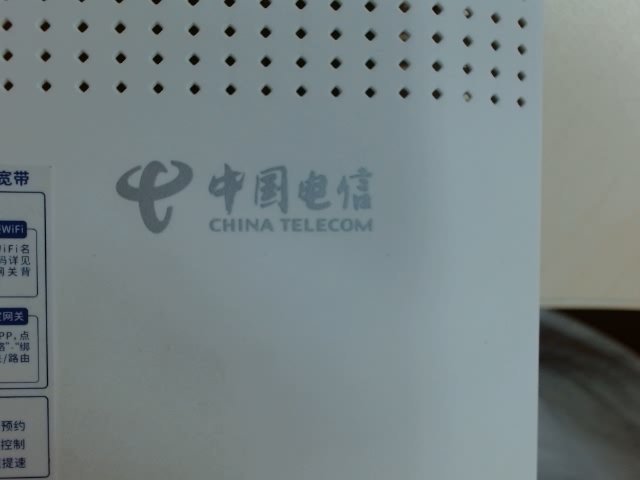AB_ChinaTelecom: (104, 136, 389, 252)
